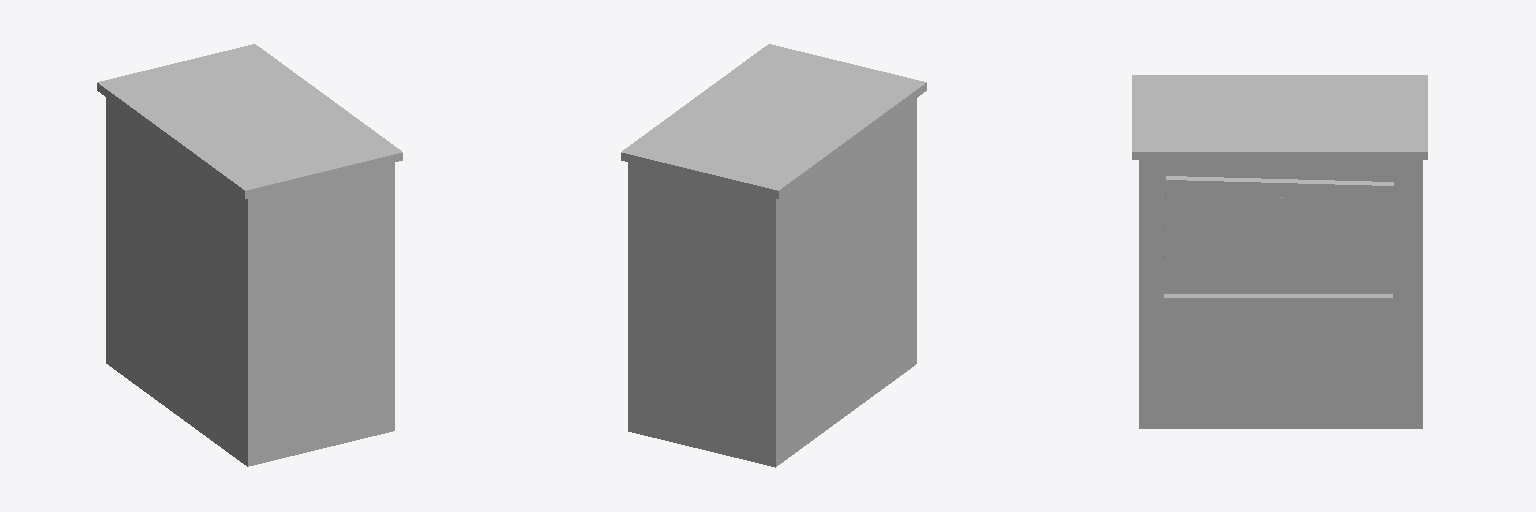
File: bedsidedrawer.obj
The picture shows the model from 3 angles: view 1: azimuth 30°, elevation 25°; view 2: azimuth 150°, elevation 25°; view 3: azimuth 270°, elevation 25°; orthographic projection.
Visible parts, largest first — view 1: Cube.014, Cube.001; view 2: Cube.014, Cube.001; view 3: Cube.014, Cube.001, Sink_door.002, Sink_door.001.
Boxes of the visible parts, box(x1,y1,x2,y2) form: Cube.014: box(106, 98, 394, 466); Cube.001: box(97, 44, 402, 198); Cube.014: box(628, 98, 916, 467); Cube.001: box(621, 44, 926, 198); Cube.014: box(1139, 160, 1422, 428); Cube.001: box(1132, 75, 1427, 159); Sink_door.002: box(1164, 294, 1392, 400); Sink_door.001: box(1163, 176, 1393, 288).
Size of the model in its own units: 0.7367 by 1.16 by 1.12.